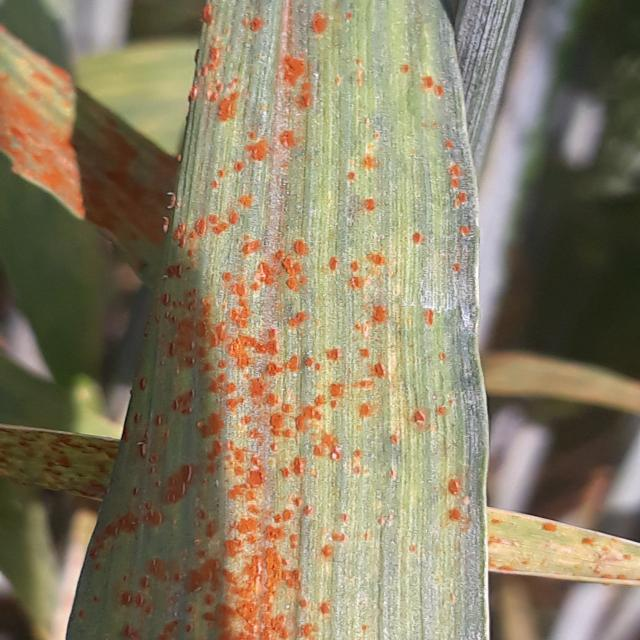orang_rust: (69, 0, 500, 640), (2, 16, 176, 250), (477, 502, 639, 593), (2, 408, 115, 504)
